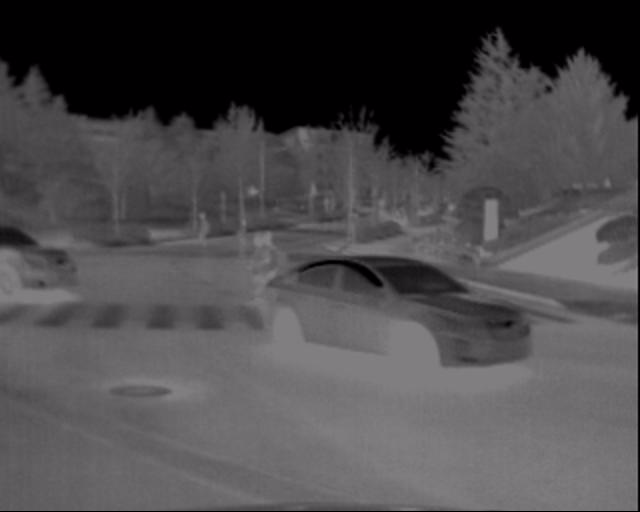person: (229, 225, 293, 311), (234, 219, 254, 258), (193, 212, 213, 251)
